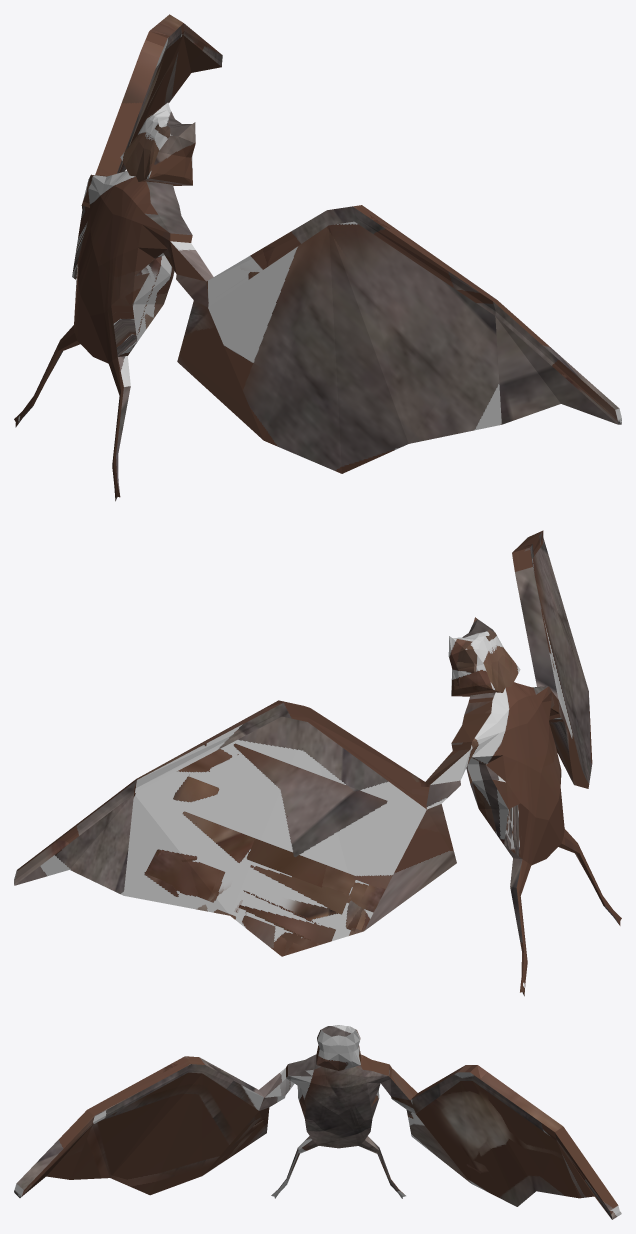
File: Enemigo122.obj
3 views of the same model, one above another, from view 1: azimuth 30°, elevation 25°; view 2: azimuth 150°, elevation 25°; view 3: azimuth 270°, elevation 25° (orthographic). The views are drawn at different scales.
Visible parts, largest first — view 1: Plano; view 2: Plano; view 3: Plano.
Part boxes in pixels (x1,y1,x2,y2): Plano: (14,14,621,501); Plano: (14,530,621,996); Plano: (14,1025,621,1219).
Bounding box in the file's own units: 0.8547 × 0.7116 × 1.91.
1 material, 1 textured.
